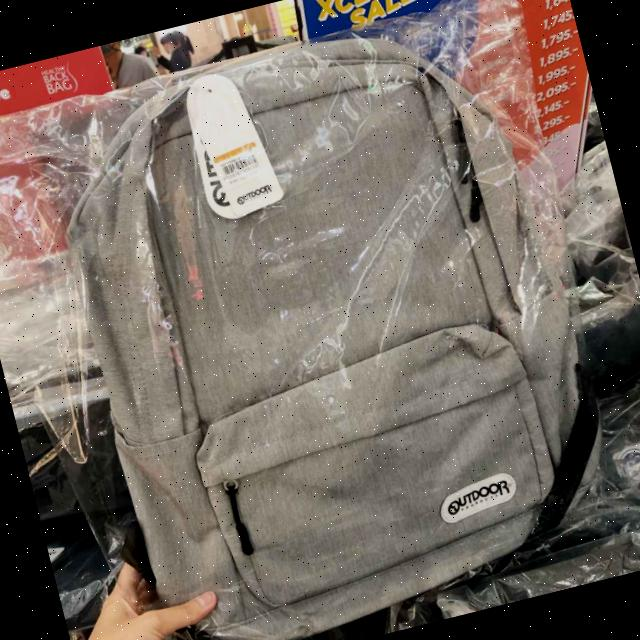Handbag: (25, 0, 636, 640)
